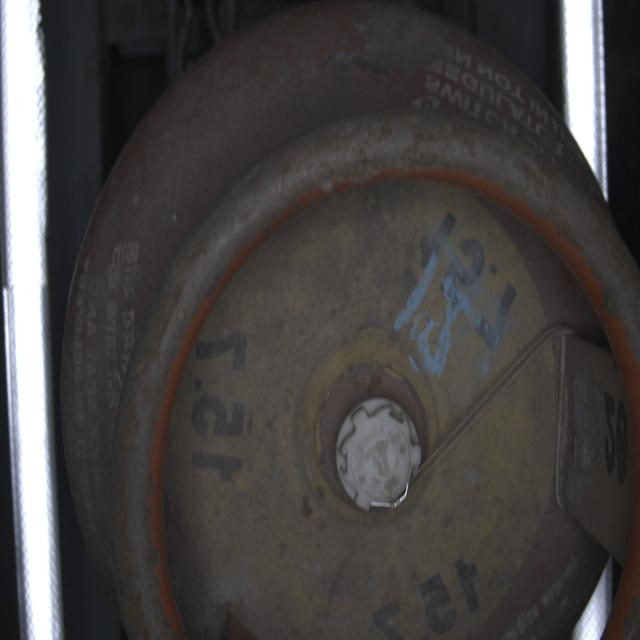Cap: (338, 395, 424, 513)
